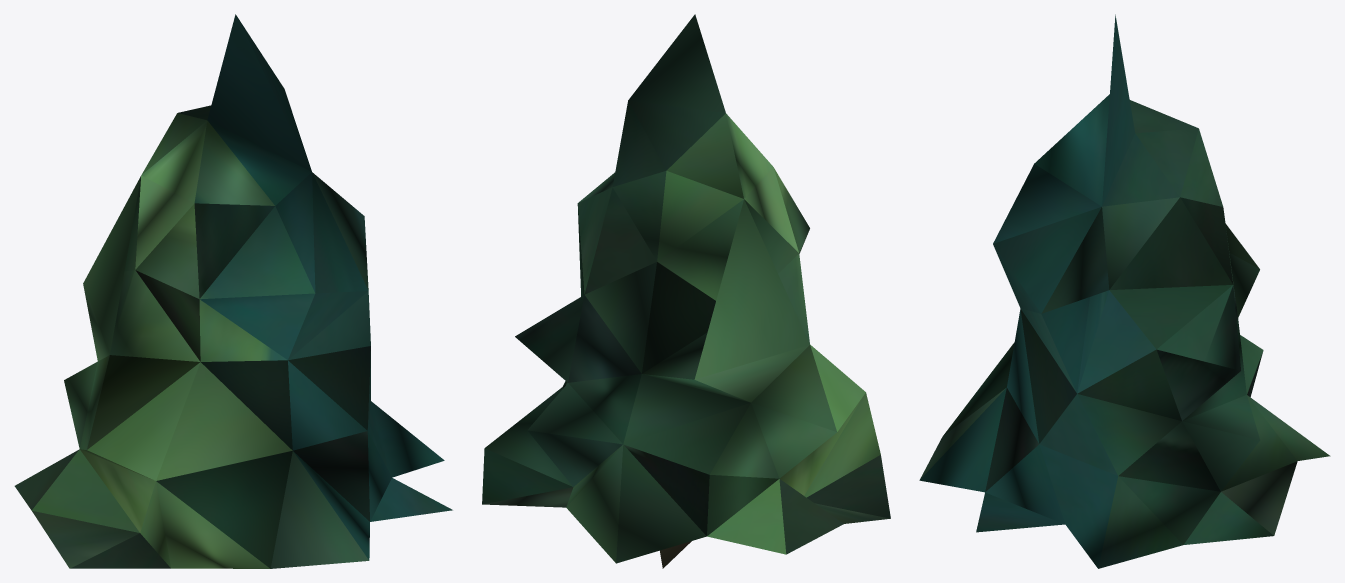
The model's file is tree-sapin-meshy-lod0.glb.
3 views of the same model, side by side, from view 1: azimuth 30°, elevation 25°; view 2: azimuth 150°, elevation 25°; view 3: azimuth 270°, elevation 25° (orthographic). The views are drawn at different scales.
Visible parts, largest first — view 1: Mesh_0.001; view 2: Mesh_0.001; view 3: Mesh_0.001.
Part boxes in pixels (bbox=[...]): Mesh_0.001: bbox=[14, 14, 452, 568]; Mesh_0.001: bbox=[482, 14, 890, 568]; Mesh_0.001: bbox=[919, 14, 1330, 568].
Size of the model in its own units: 8.77 by 12.17 by 8.56.
1 material, 1 textured.
